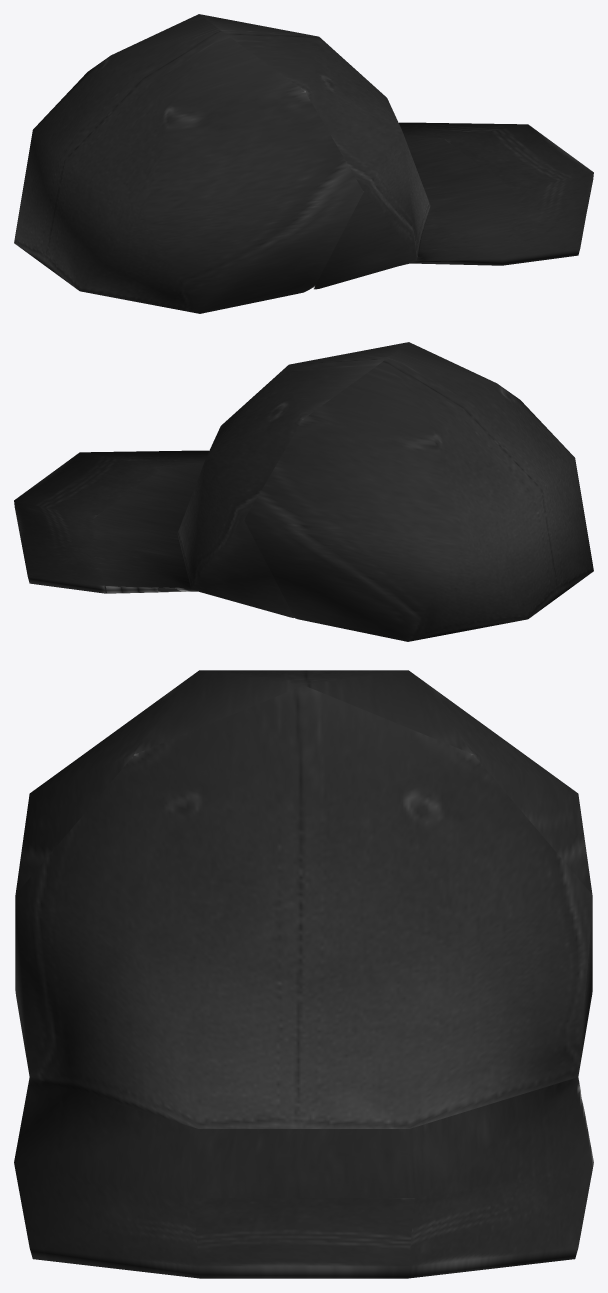
The model's file is cap.fbx.
3 renders of one model, top to bottom at view 1: azimuth 30°, elevation 25°; view 2: azimuth 150°, elevation 25°; view 3: azimuth 270°, elevation 25°, orthographic. The views are drawn at different scales.
Parts seen in each view (by area): view 1: cap; view 2: cap; view 3: cap.
Part boxes in pixels (x1,y1,x2,y2): cap: (14, 14, 593, 313); cap: (14, 342, 593, 641); cap: (14, 670, 593, 1278).
Bounding box in the file's own units: 279 × 118 × 171.
